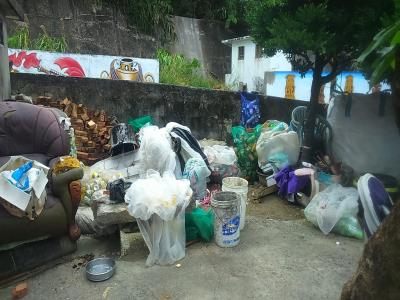bowl: (84, 257, 117, 282)
box: (1, 153, 53, 221)
bucket: (208, 188, 241, 249), (220, 175, 249, 231), (108, 122, 142, 157)
plastic_bag: (305, 184, 366, 232)
styrofoam: (257, 121, 300, 169), (232, 127, 259, 169), (241, 91, 262, 127)
